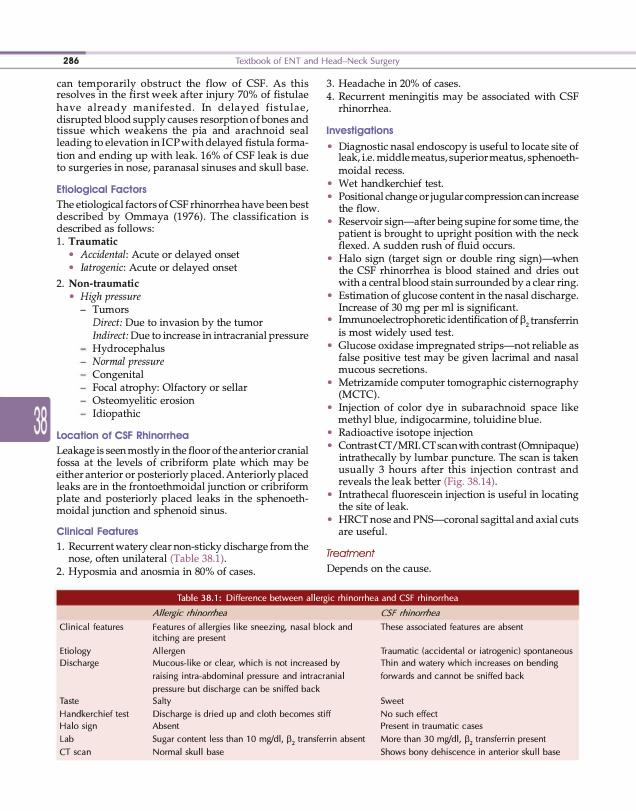caption: (176, 593, 459, 604)
header: (234, 55, 401, 66)
list: (326, 139, 579, 538), (54, 235, 310, 421), (79, 304, 310, 422), (55, 540, 310, 579), (324, 77, 581, 114), (68, 248, 241, 275)
sub-section-heading: (56, 430, 190, 440), (56, 183, 148, 197), (325, 124, 394, 137), (56, 526, 139, 536), (326, 548, 376, 558)
table: (56, 605, 579, 761)
text: (55, 78, 310, 175), (55, 445, 309, 518), (55, 198, 310, 235), (326, 563, 432, 576)
